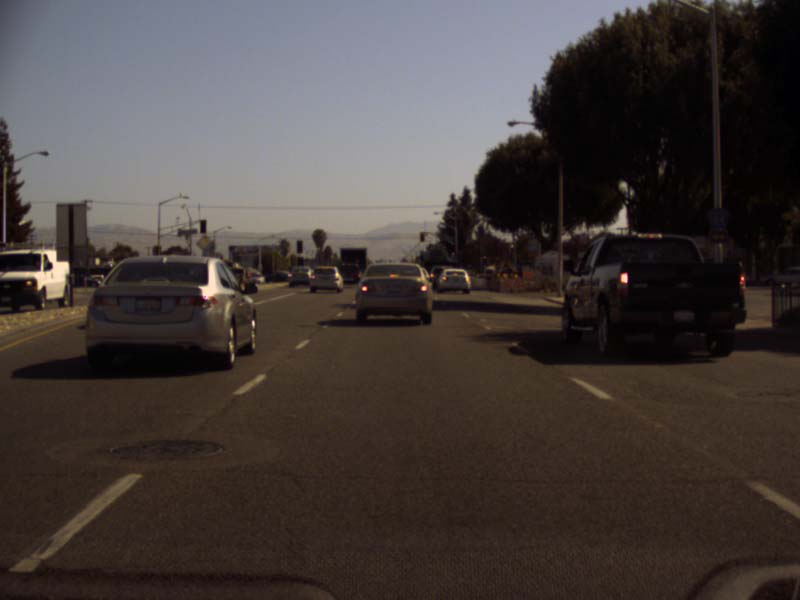Green: (298, 259, 302, 268)
Red: (420, 232, 423, 241), (510, 244, 513, 252), (451, 251, 454, 258)
